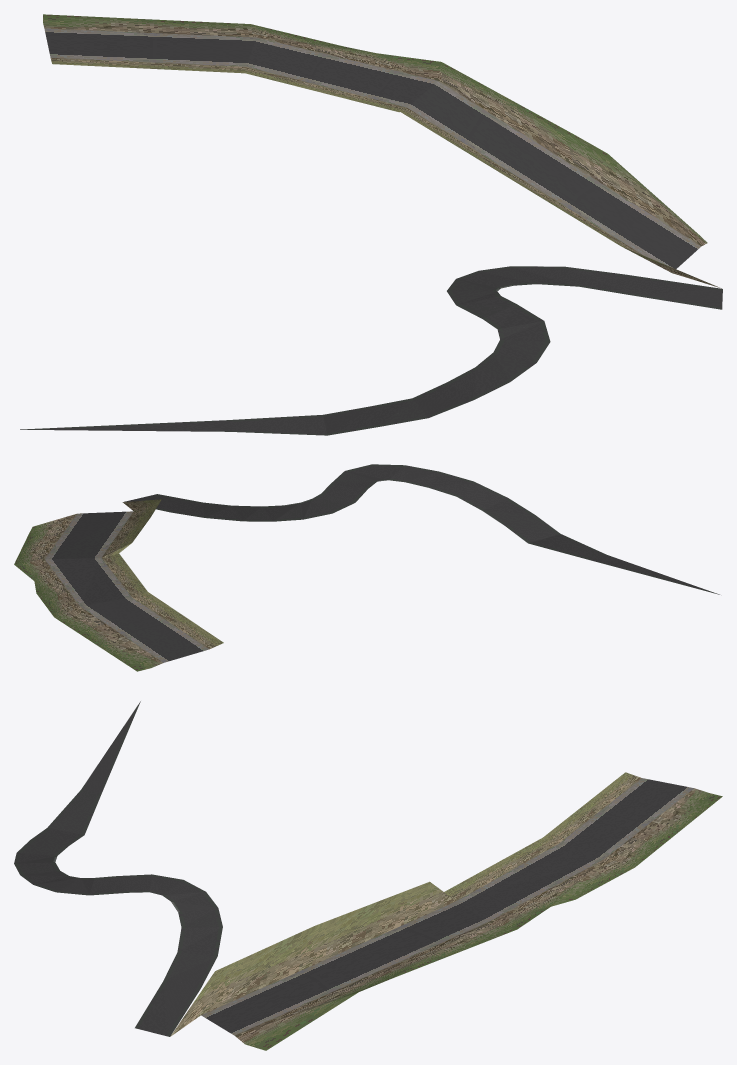
File: lodceroad_hill01.obj
The picture shows the model from 3 angles, top to bottom: view 1: azimuth 30°, elevation 25°; view 2: azimuth 150°, elevation 25°; view 3: azimuth 270°, elevation 25°; orthographic projection. The views are drawn at different scales.
Parts seen in each view (by area): view 1: LODCEroad_hill01; view 2: LODCEroad_hill01; view 3: LODCEroad_hill01.
Boxes of the visible parts, left/top/right/bottom form: LODCEroad_hill01: left=20, top=14, right=722, bottom=435; LODCEroad_hill01: left=14, top=464, right=719, bottom=671; LODCEroad_hill01: left=14, top=701, right=722, bottom=1050.
Size of the model in its own units: 178 by 27.39 by 172.
4 materials, 4 textured.
